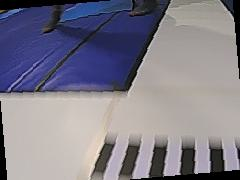CrossWalk: (89, 128, 239, 176)
